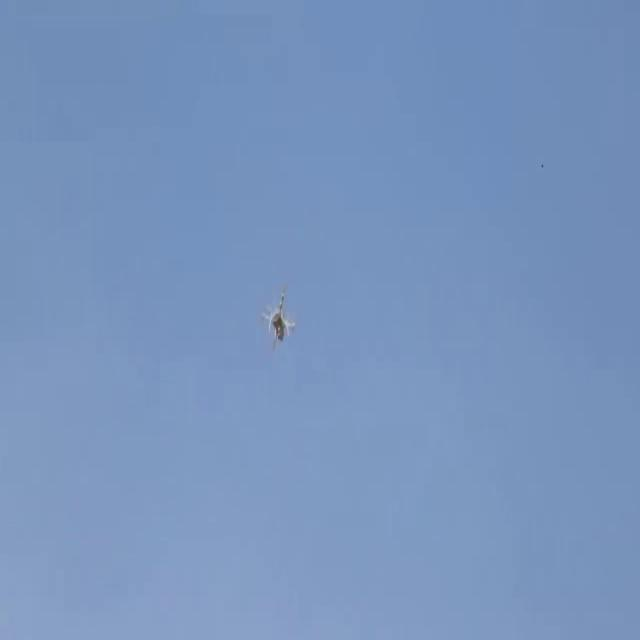drone: (253, 272, 303, 360)
